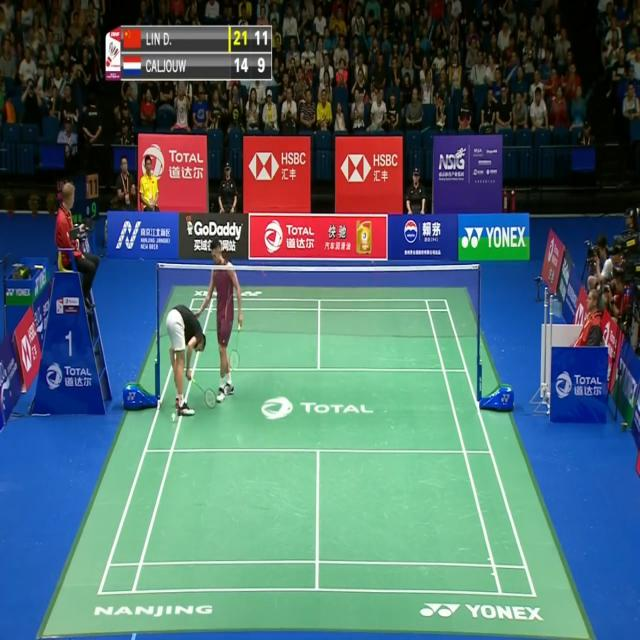Player1: (164, 298, 218, 418)
Player2: (204, 233, 246, 405)
